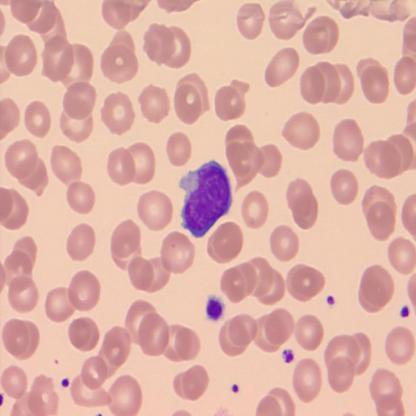Lymphocyte: (178, 157, 233, 239)
